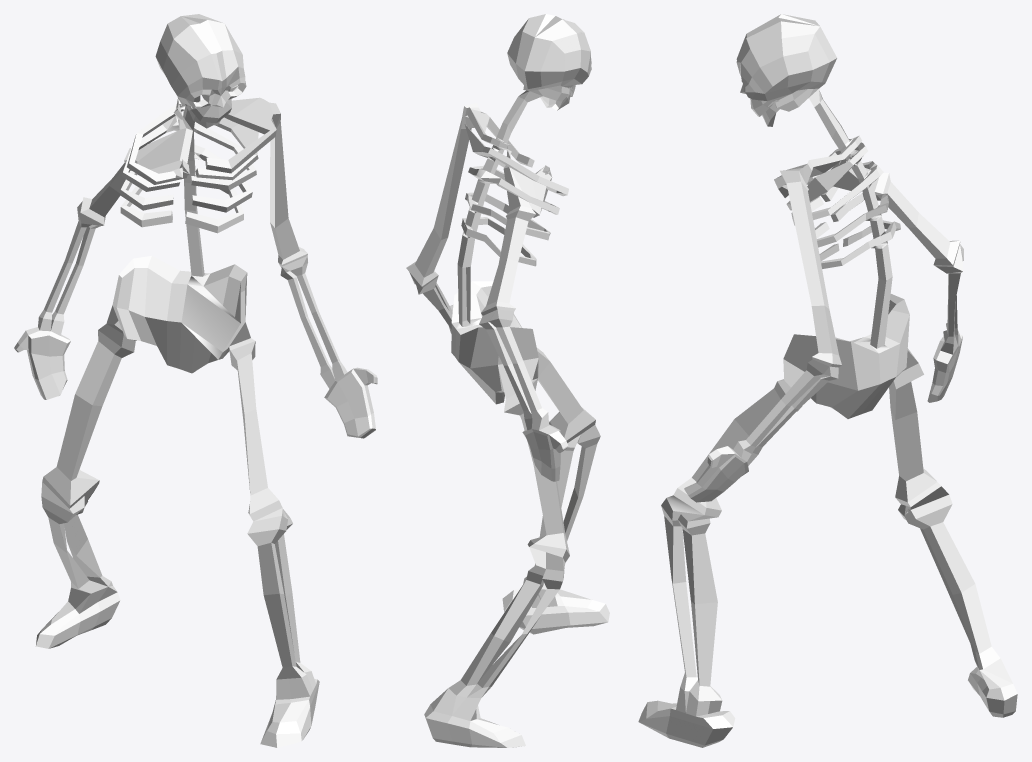
Rendered from SkeletonIdle(116).obj.
3 renders of one model, left to right at view 1: azimuth 30°, elevation 25°; view 2: azimuth 150°, elevation 25°; view 3: azimuth 270°, elevation 25°, orthographic. The views are drawn at different scales.
Parts seen in each view (by area): view 1: Object002; view 2: Object002; view 3: Object002.
Part boxes in pixels (x1=…): Object002: x1=14, y1=14, x2=377, y2=747; Object002: x1=406, y1=14, x2=609, y2=747; Object002: x1=638, y1=14, x2=1017, y2=747.
Size of the model in its own units: 419 by 1122 by 555.
